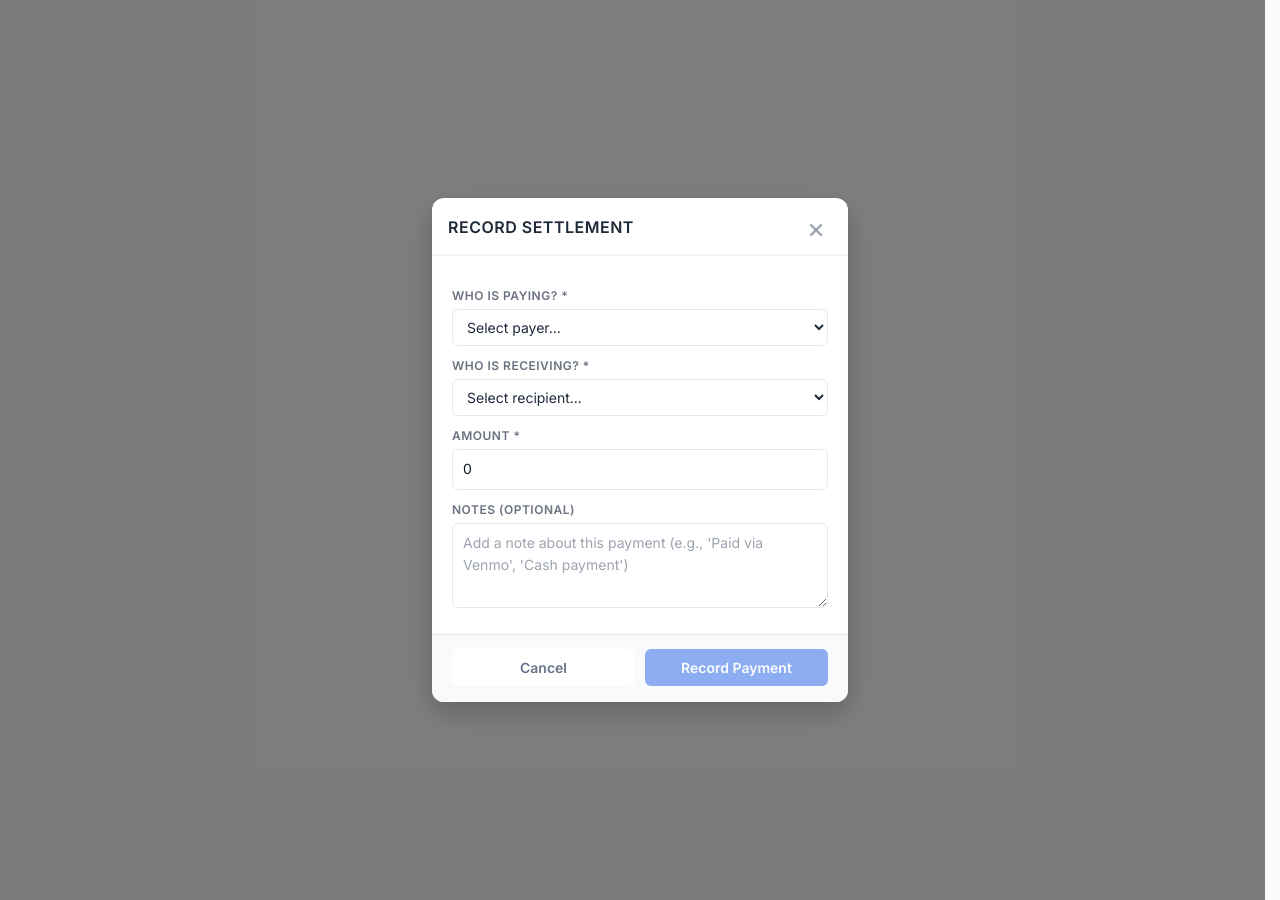
blocks manual over-settlement before sending any money mutation
Select "Payer" in the dropdown labelled "Who is paying? *": x=640, y=328 [452,309,828,346]
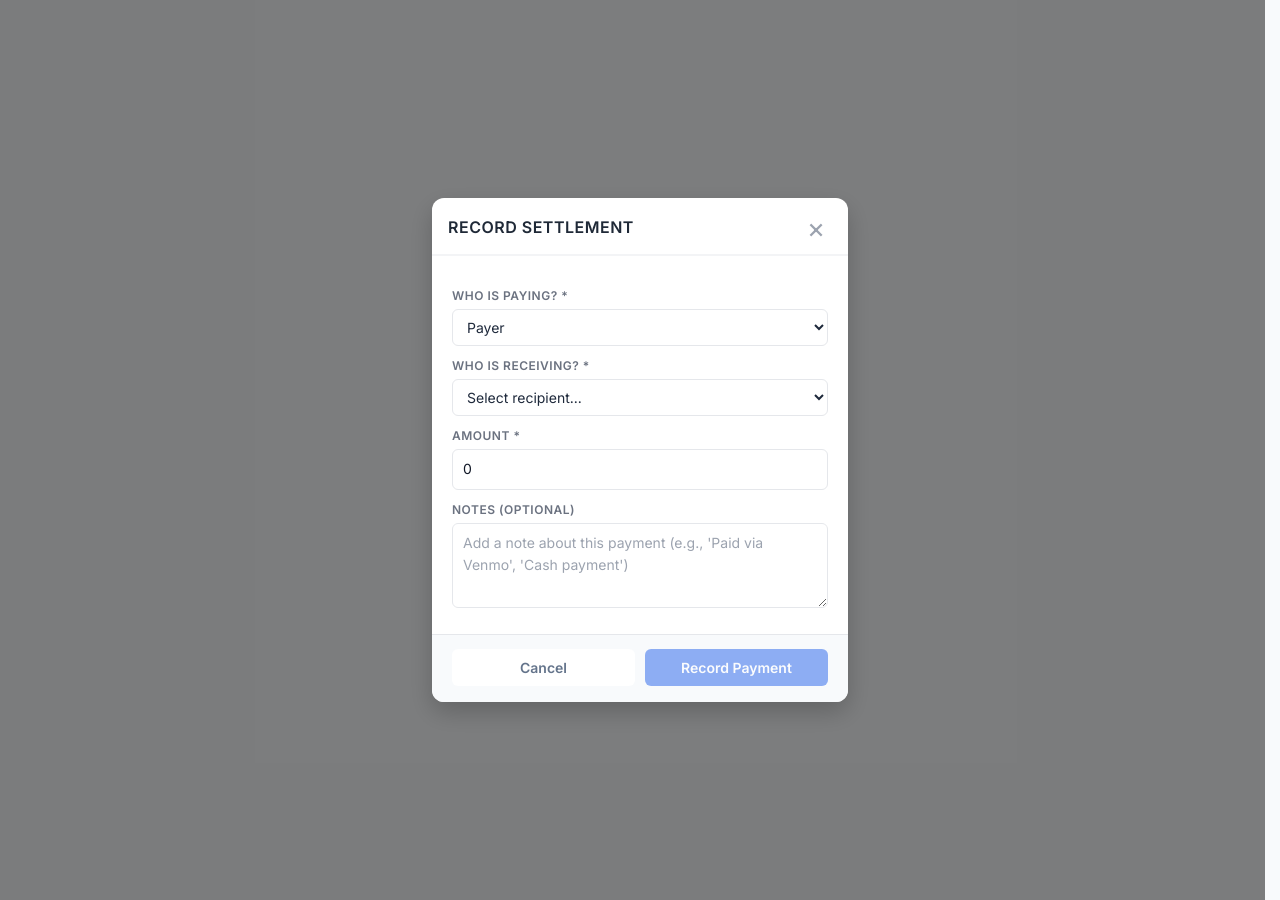
Select "Recipient" in the dropdown labelled "Who is receiving? *": x=640, y=398 [452,379,828,416]
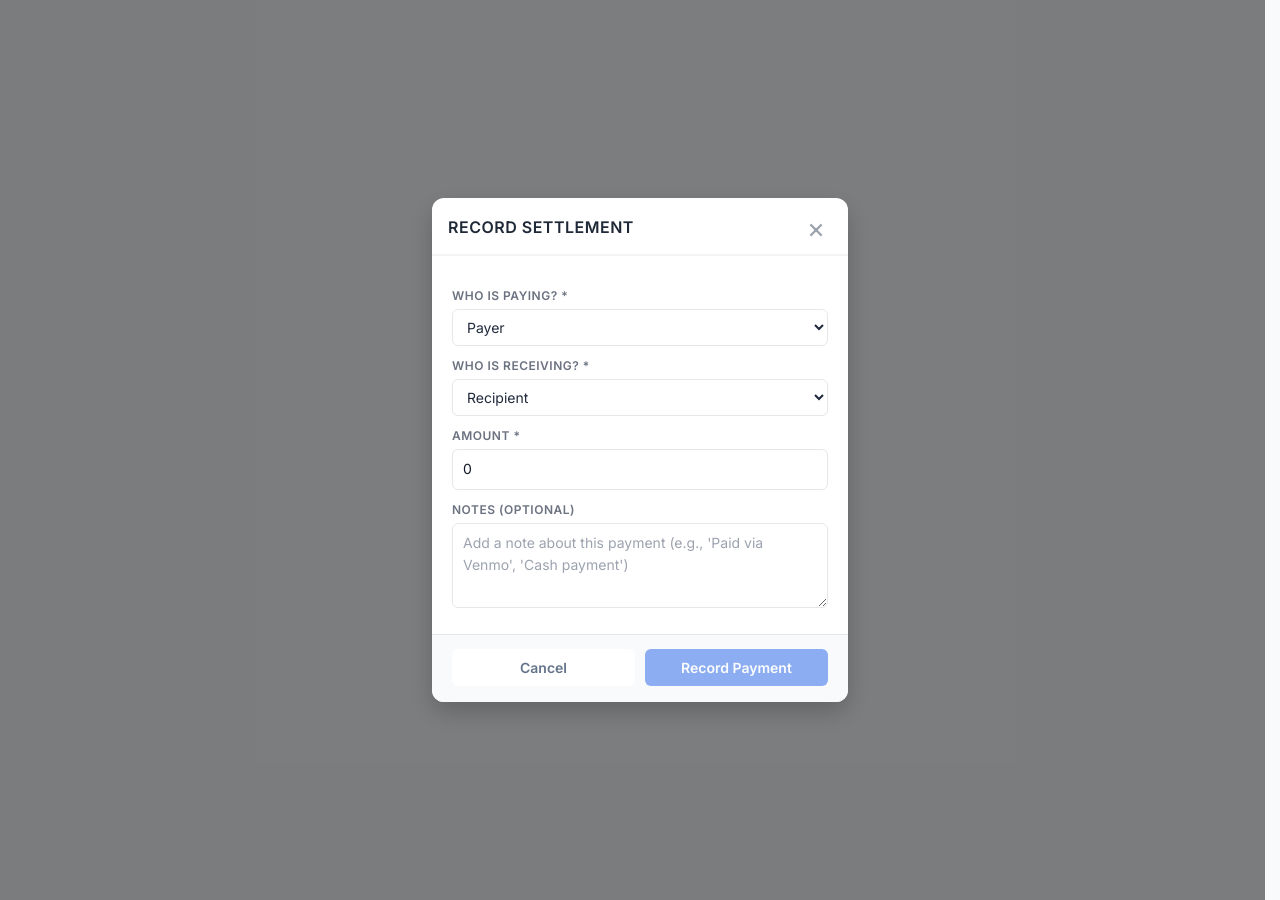
Replace the text in the number field labelled "Amount *" with "6": x=640, y=470 [452,449,828,490]
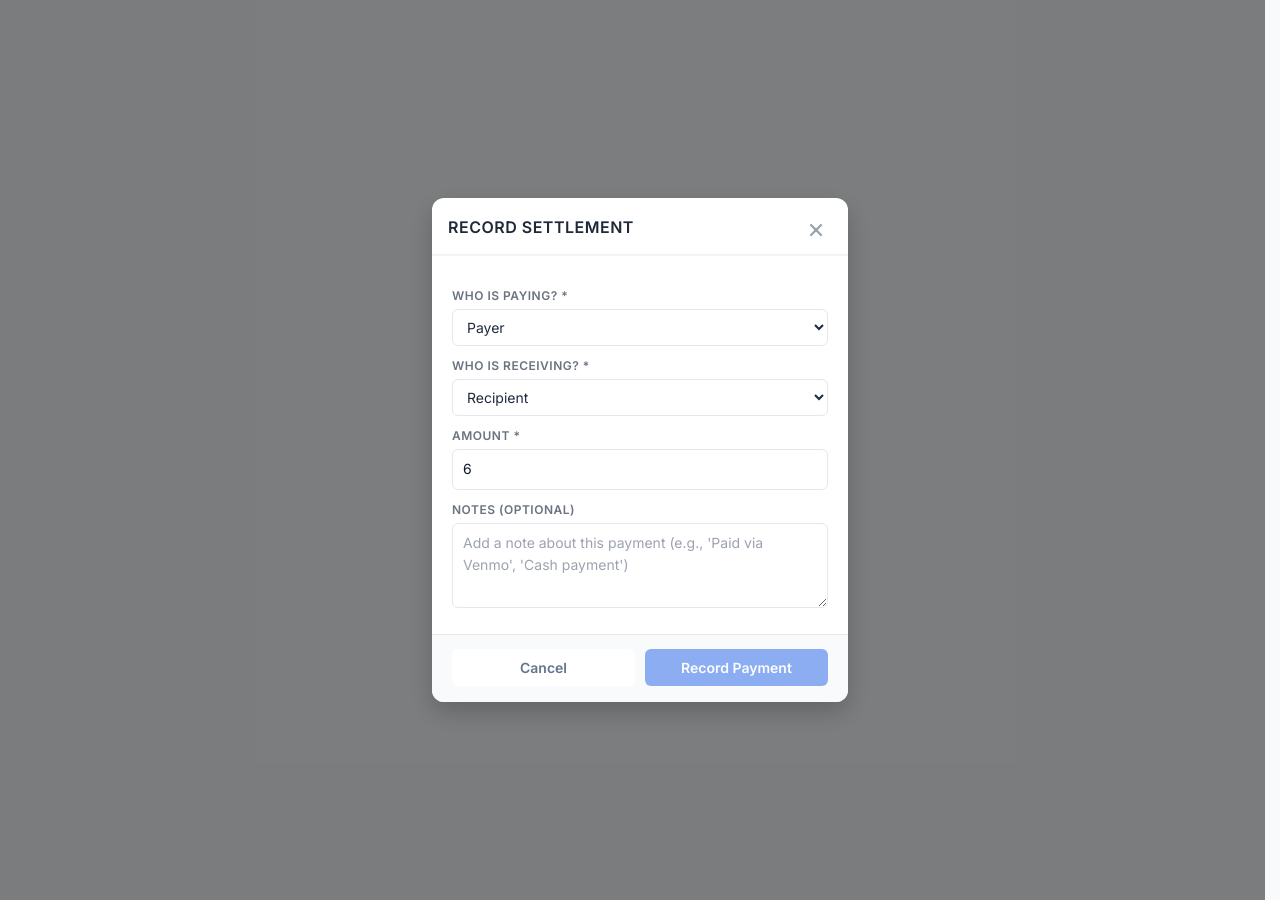
Submit the form, box [432,270,848,702]
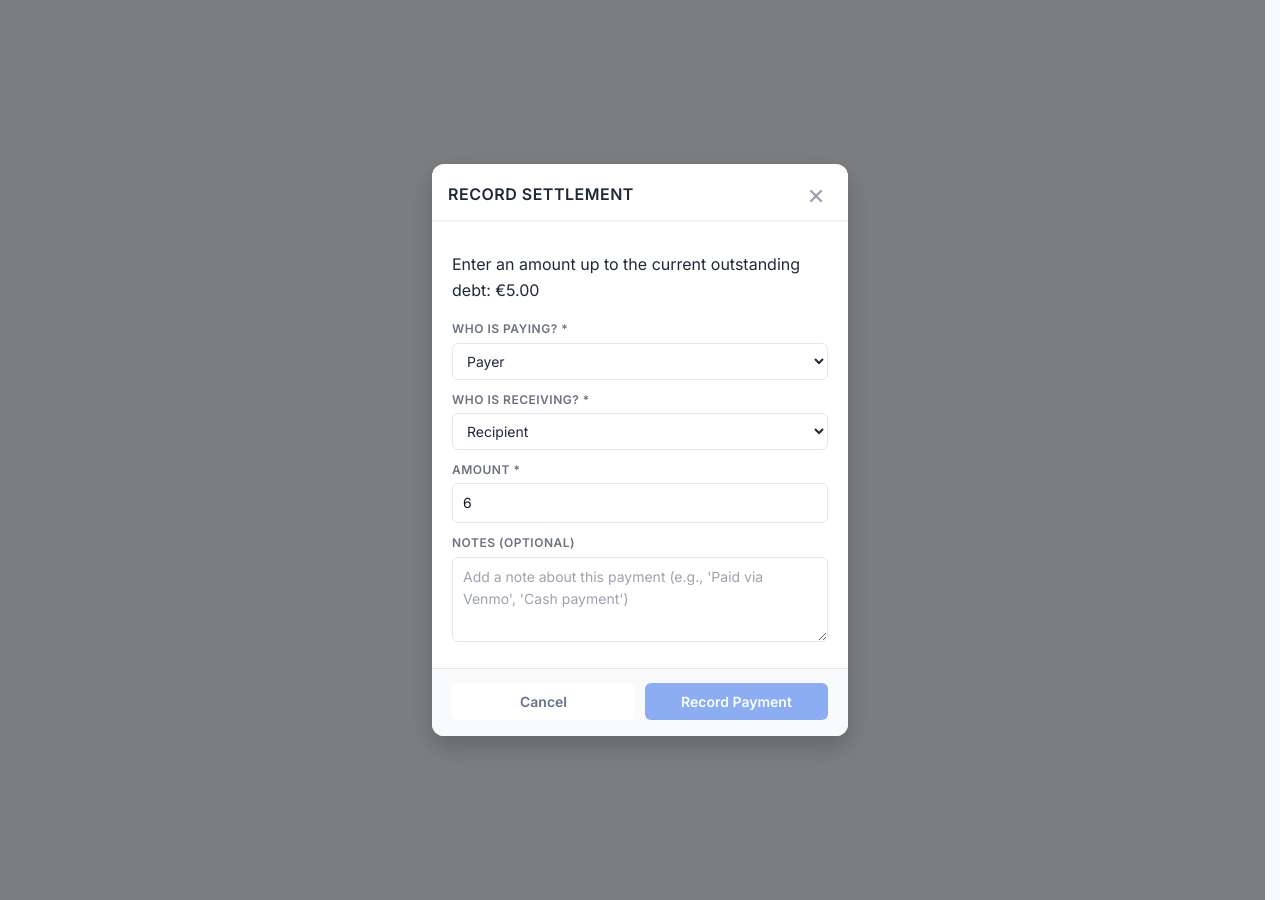
Now the text "Enter an amount up to the current outstanding debt: €5.00" is shown, box [452,252,828,304]
